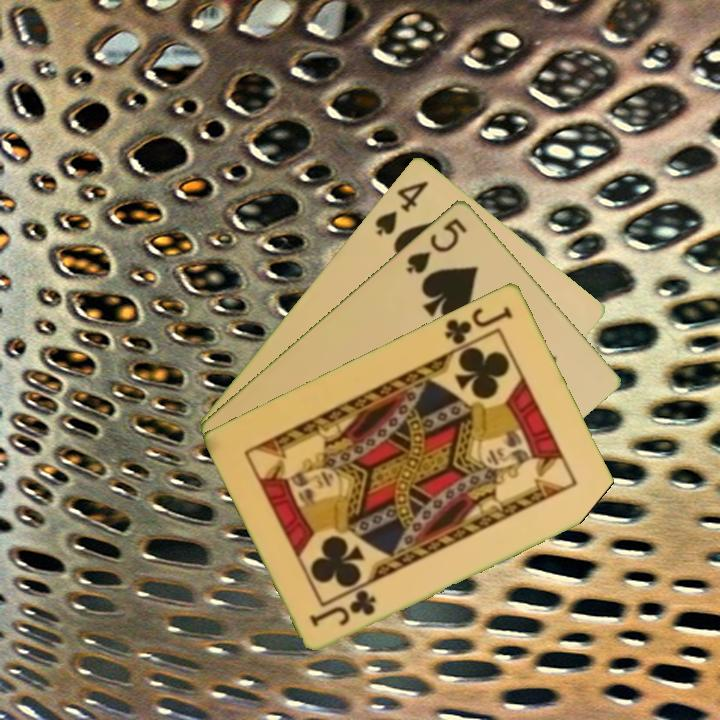4s: (371, 176, 432, 239)
5s: (402, 213, 470, 277)
Jc: (441, 302, 516, 354), (306, 586, 379, 629)
